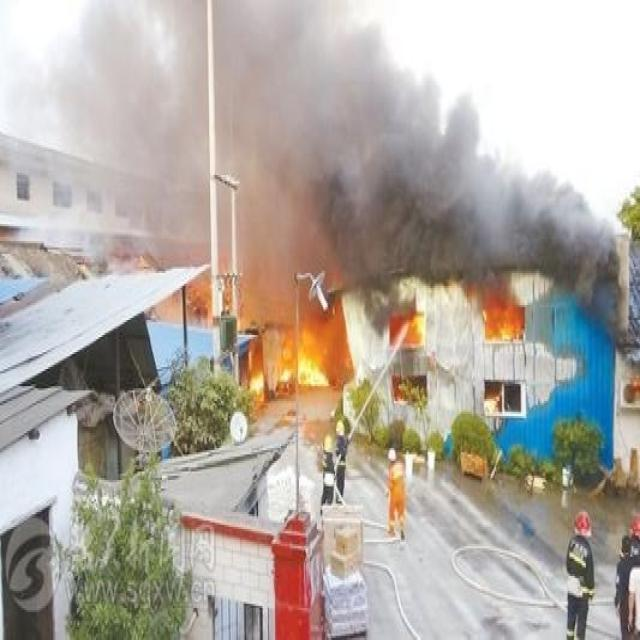Smoke: (0, 0, 632, 346)
